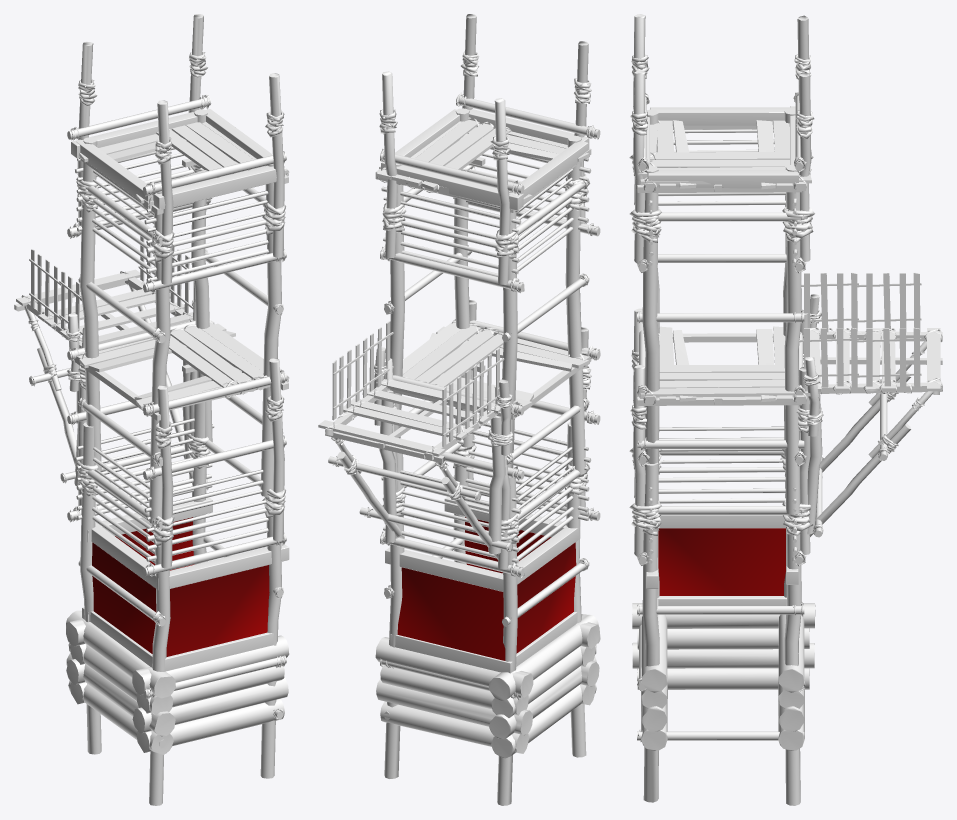
The model's file is SM_WoodTower_01a.fbx.
3 renders of one model, left to right at view 1: azimuth 30°, elevation 25°; view 2: azimuth 150°, elevation 25°; view 3: azimuth 270°, elevation 25°, orthographic. The views are drawn at different scales.
Visible parts, largest first — view 1: SM_WoodTower_01a_LOD0; view 2: SM_WoodTower_01a_LOD0; view 3: SM_WoodTower_01a_LOD0.
Boxes of the visible parts, x1,y1,x2,y2 form: SM_WoodTower_01a_LOD0: (14, 14, 289, 805); SM_WoodTower_01a_LOD0: (318, 14, 600, 805); SM_WoodTower_01a_LOD0: (629, 14, 942, 805).
Size of the model in its own units: 291 by 503 by 1288.
